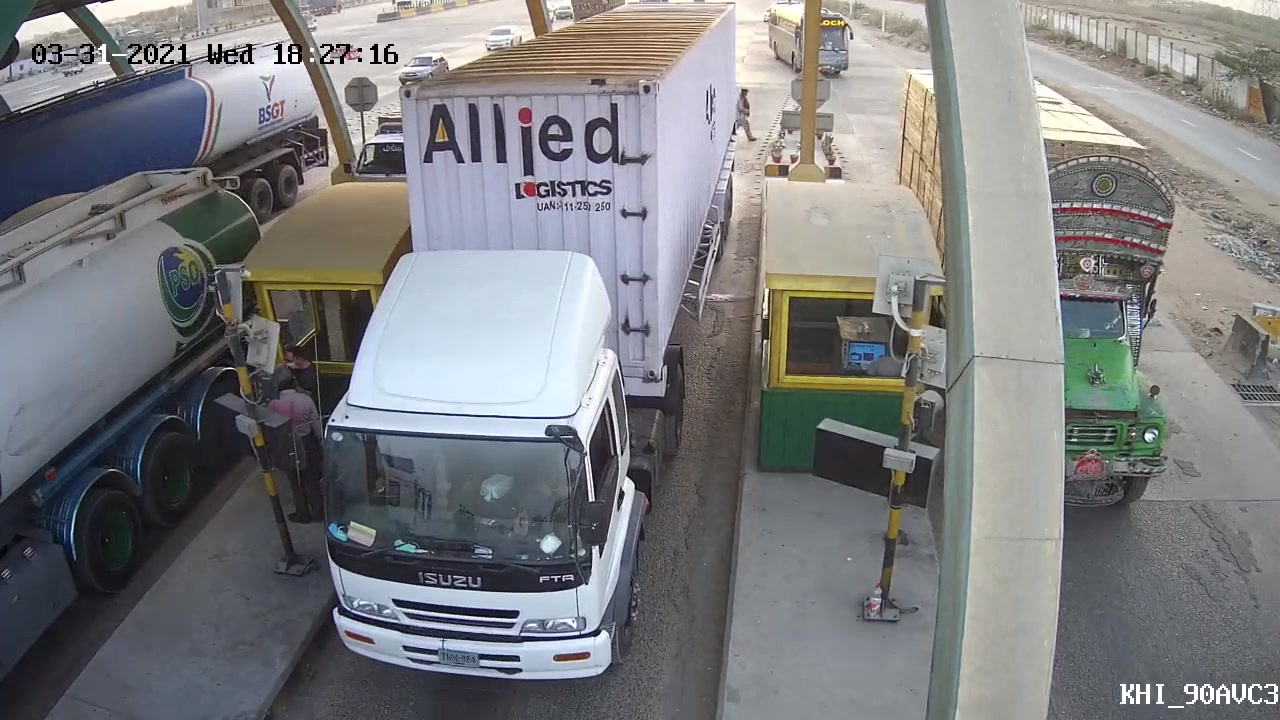F6: (294, 2, 750, 687)
